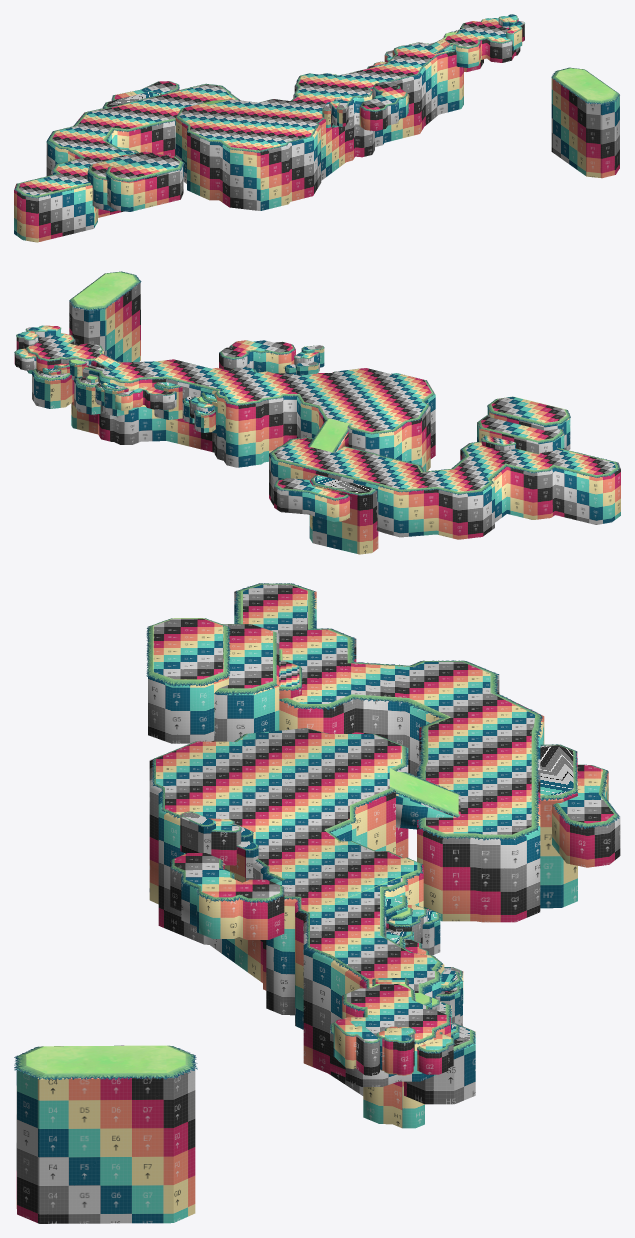
File: River_Terrain.fbx
3 views of the same model, one above another, from view 1: azimuth 30°, elevation 25°; view 2: azimuth 150°, elevation 25°; view 3: azimuth 270°, elevation 25° (orthographic). The views are drawn at different scales.
Parts seen in each view (by area): view 1: River_side, River_edge, River_Upper; view 2: River_side, River_edge, River_Upper; view 3: River_side, River_edge, River_Upper.
Boxes of the visible parts, x1,y1,x2,y2 form: River_side: [14, 14, 619, 242]; River_edge: [14, 14, 619, 198]; River_Upper: [37, 32, 615, 196]; River_side: [14, 283, 620, 554]; River_edge: [14, 271, 619, 500]; River_Upper: [70, 272, 614, 472]; River_side: [16, 583, 620, 1223]; River_edge: [14, 583, 619, 1079]; River_Upper: [26, 589, 458, 1073].
Bounding box in the file's own units: 59893 × 9676 × 29655.
3 materials, 3 textured.
